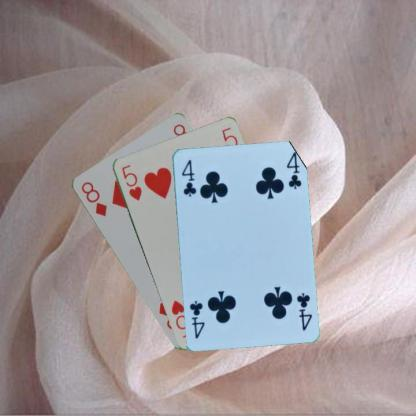4c: (178, 156, 198, 198), (294, 290, 313, 332)
5h: (118, 162, 143, 202)
8d: (78, 178, 108, 218)
